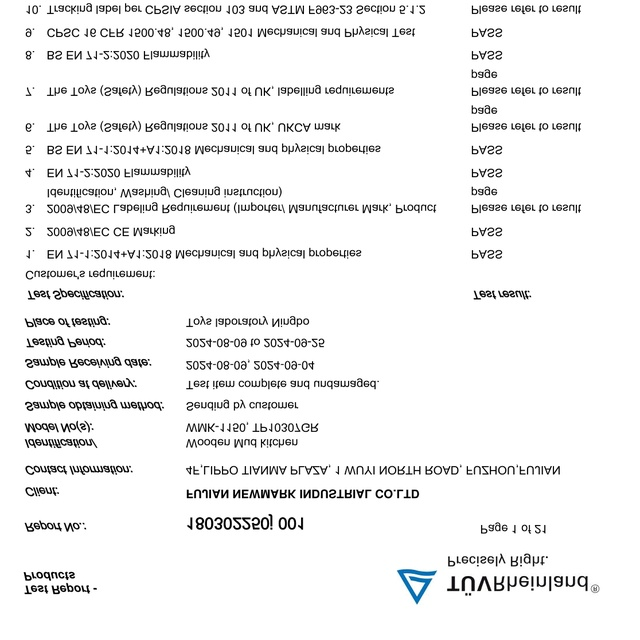tuv_rheinland: (394, 564, 604, 607)
